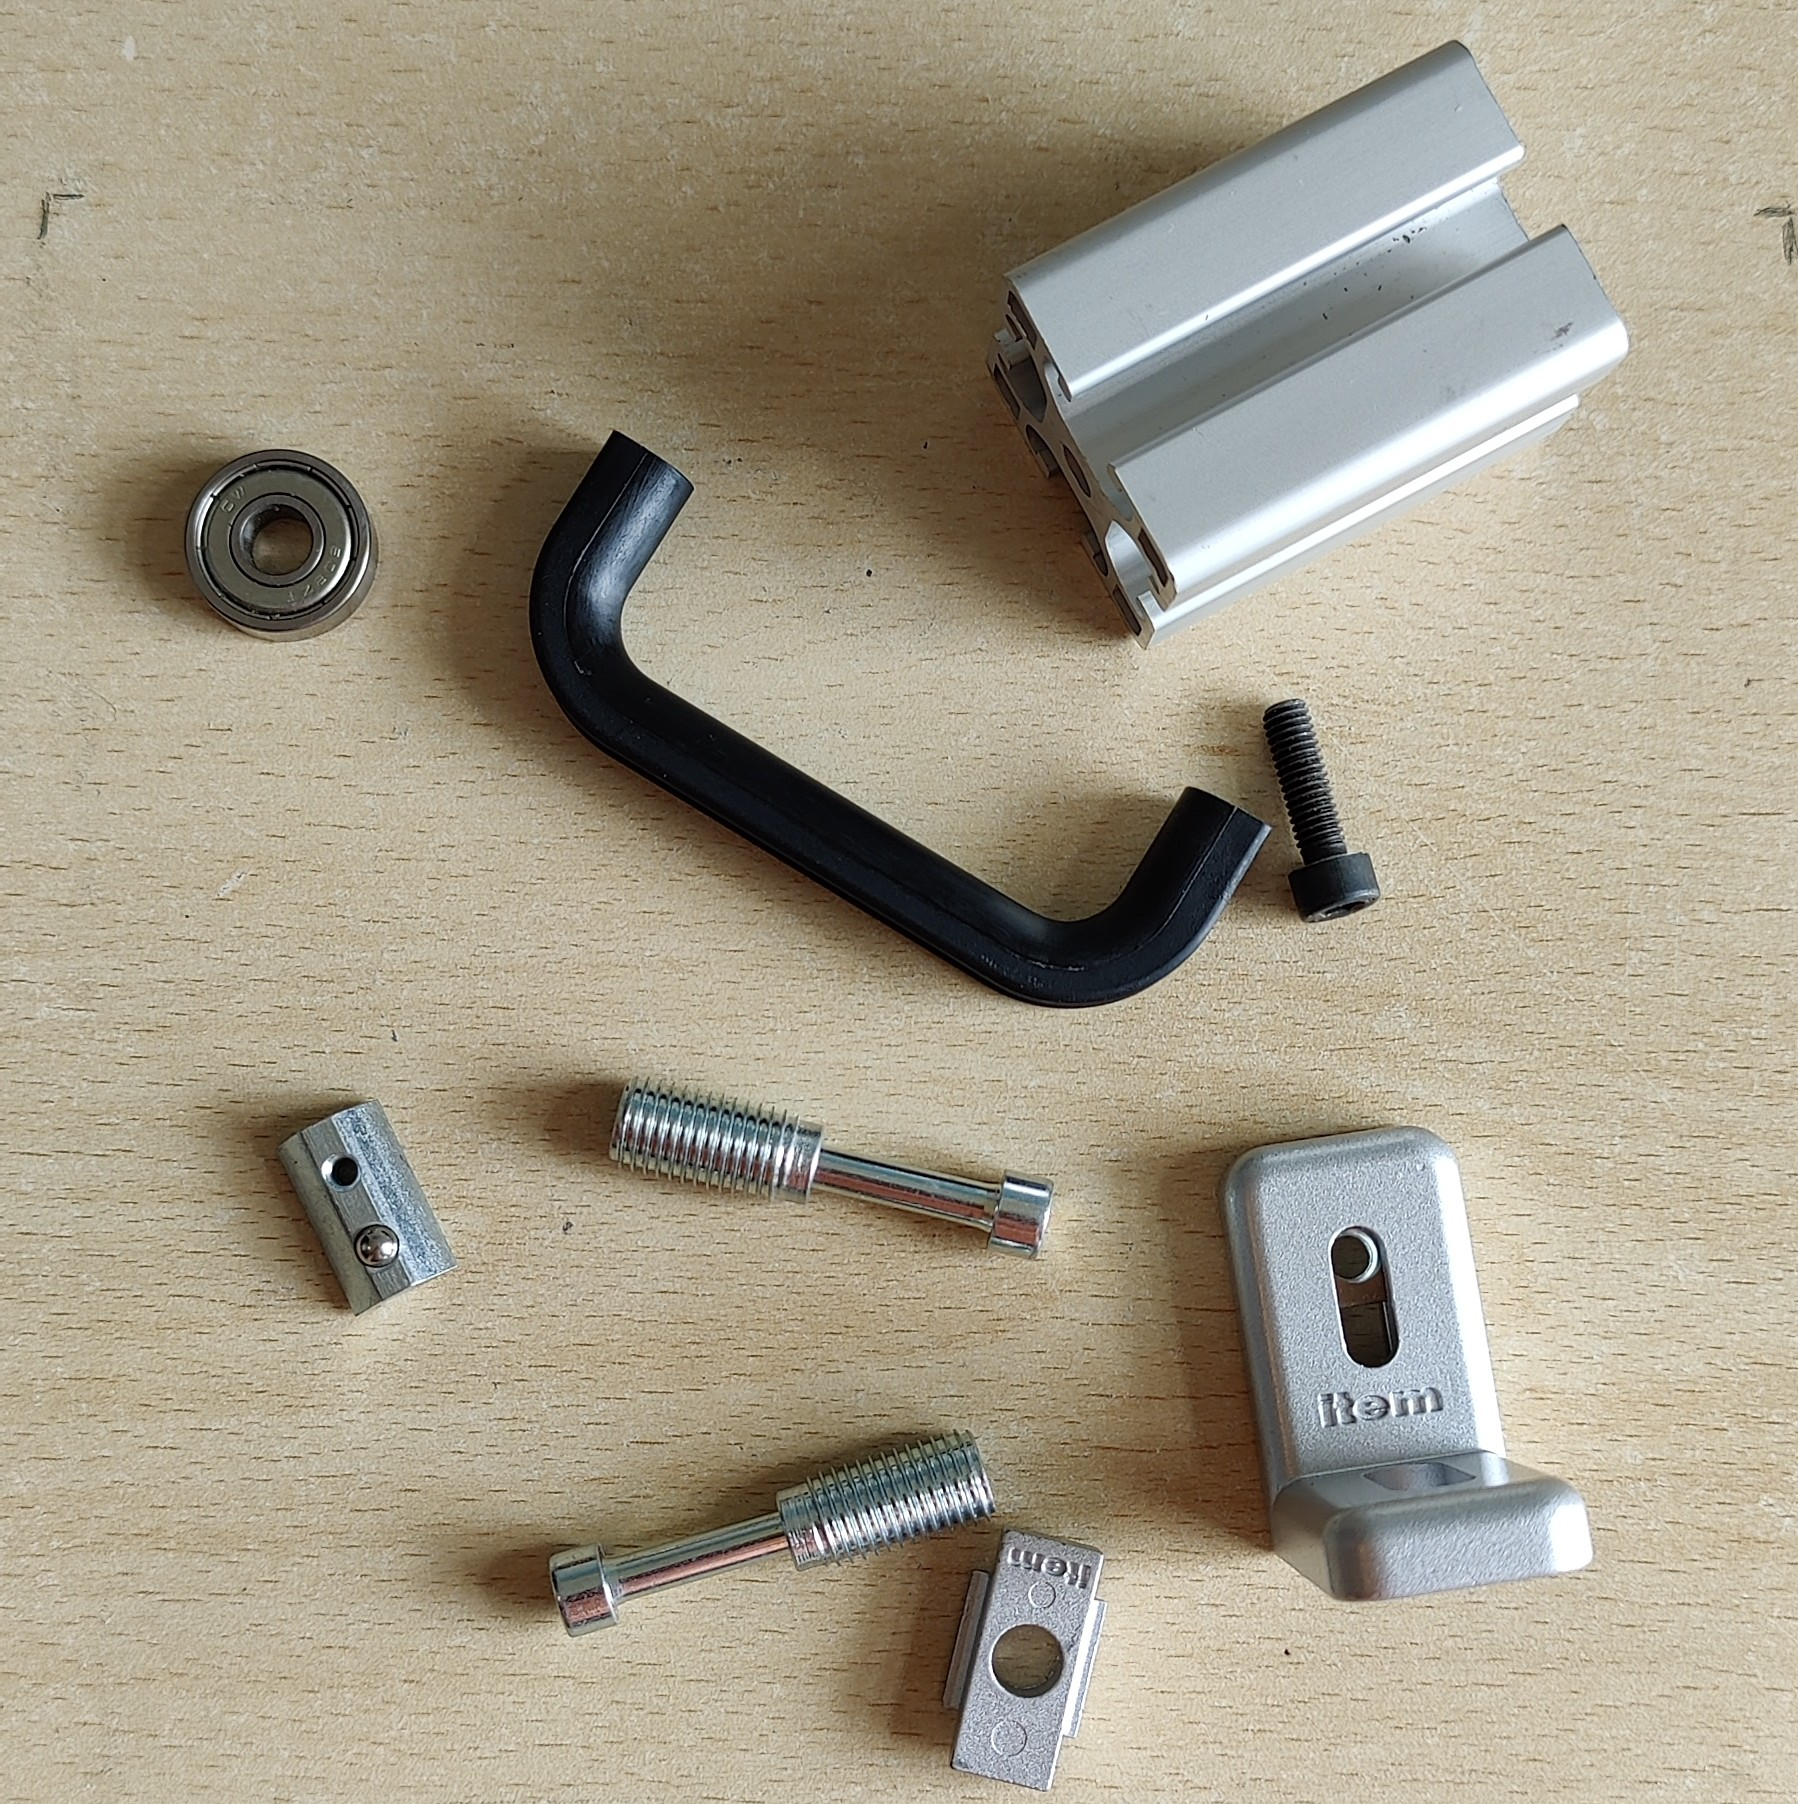Aluminium Extension: (985, 36, 1633, 653)
Ball Bearing: (181, 444, 380, 645)
Multiwinkel: (1222, 1123, 1595, 1603)
Pull Handle: (525, 426, 1274, 1011)
Shoulder Socket Head Cap Screw: (547, 1424, 998, 1639), (604, 1070, 1059, 1262)
Socket Head Cap Screw: (1258, 696, 1385, 925)
T Nut Square: (940, 1523, 1111, 1794)
T Spring Nut: (277, 1096, 459, 1318)
